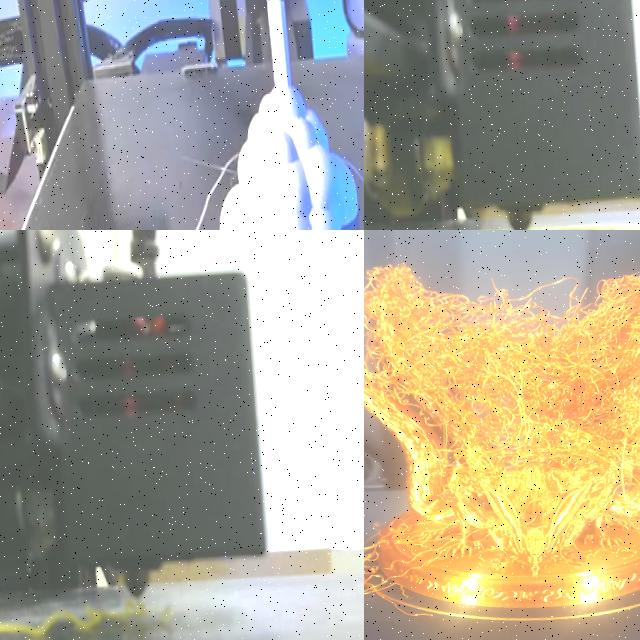spaghetti: (364, 230, 640, 623), (0, 601, 146, 637), (145, 585, 175, 628)
